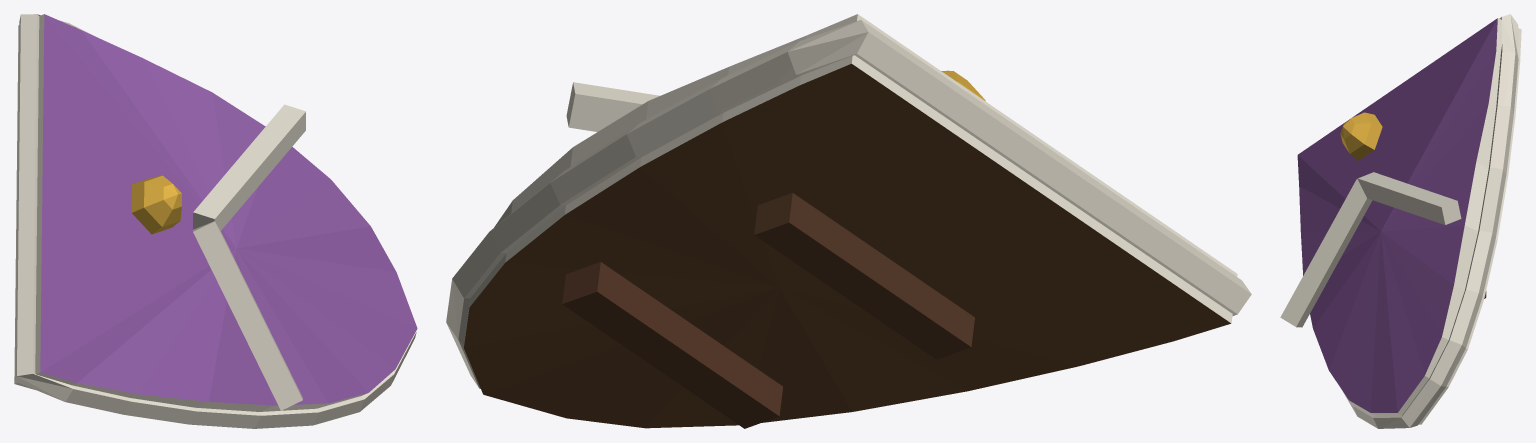
Rendered from armor_shield_heater.glb.
3 renders of one model, left to right at view 1: azimuth 30°, elevation 25°; view 2: azimuth 150°, elevation 25°; view 3: azimuth 270°, elevation 25°, orthographic. The views are drawn at different scales.
Visible parts, largest first — view 1: armor_shield_heater; view 2: armor_shield_heater; view 3: armor_shield_heater.
Part boxes in pixels (<box>): armor_shield_heater: <box>14,14,417,428</box>; armor_shield_heater: <box>446,14,1251,428</box>; armor_shield_heater: <box>1280,14,1521,428</box>.
Size of the model in its own units: 0.6819 by 0.5492 by 0.3874.
